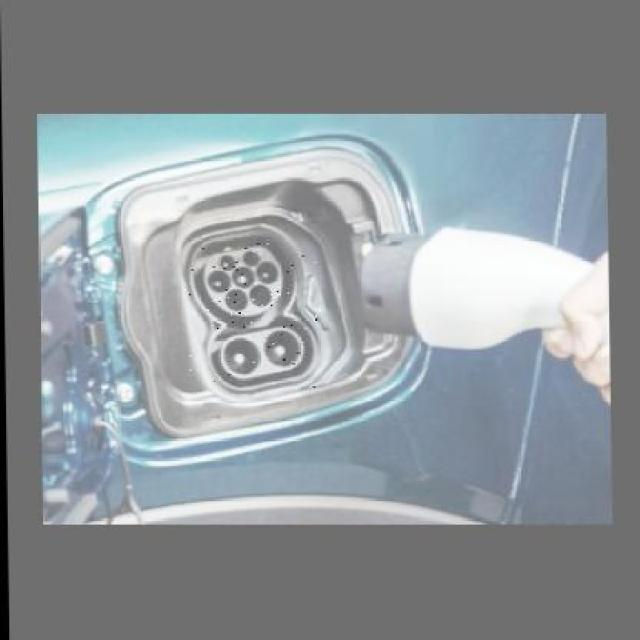CCS2: (166, 217, 345, 408)
